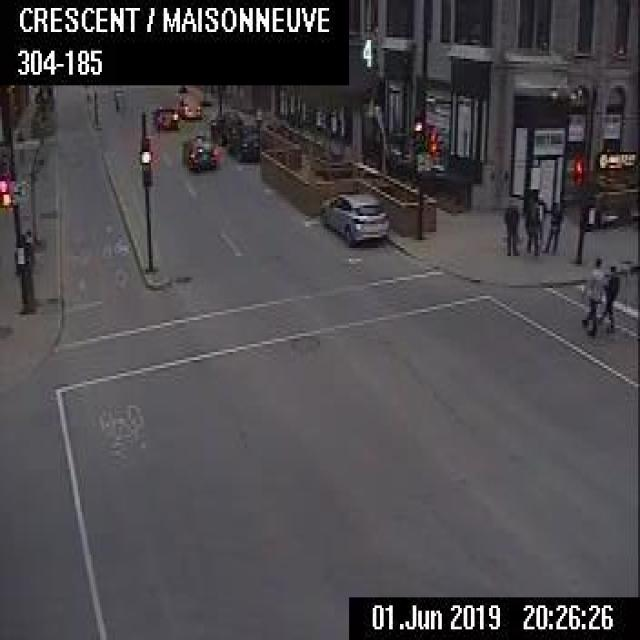pedestrian: (579, 254, 609, 336), (596, 263, 618, 332), (522, 186, 541, 253), (542, 196, 562, 252), (503, 194, 519, 254)
vehicle: (318, 189, 390, 244), (180, 133, 217, 169), (225, 122, 258, 161), (209, 109, 242, 142), (174, 94, 200, 118), (152, 104, 177, 128)
